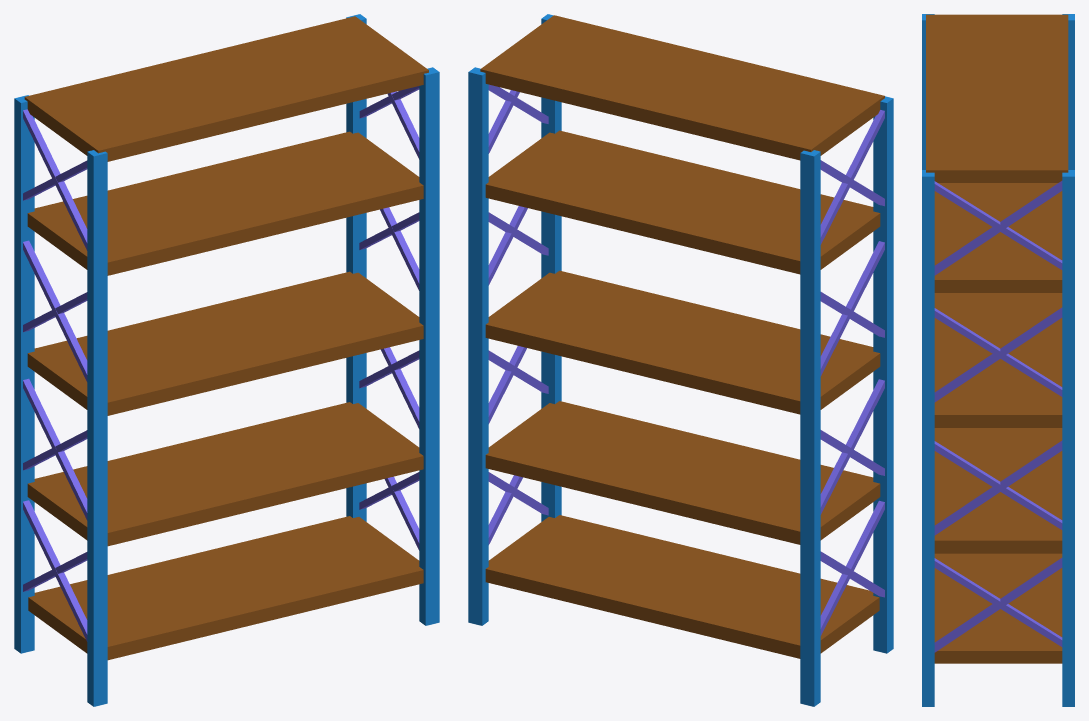
Rendered from shelf 2.glb.
The picture shows the model from 3 angles, left to right: view 1: azimuth 30°, elevation 25°; view 2: azimuth 150°, elevation 25°; view 3: azimuth 270°, elevation 25°; orthographic projection. The views are drawn at different scales.
Parts seen in each view (by area): view 1: Cube, Cube.005, Cube.003, Cube.002, Cube.004, Cube.001, Cube.010, Cube.008, Cube.012, Cube.006, Cube.017, Cube.018 (+2 smaller); view 2: Cube, Cube.005, Cube.003, Cube.002, Cube.004, Cube.001, Cube.010, Cube.012, Cube.006, Cube.008, Cube.017, Cube.018 (+2 smaller); view 3: Cube.005, Cube, Cube.003, Cube.002, Cube.001, Cube.004, Cube.020, Cube.018, Cube.014, Cube.017.
Boxes of the visible parts, box(x1,y1,x2,y2) form: Cube: box(14, 14, 439, 706); Cube.005: box(24, 16, 428, 161); Cube.003: box(27, 271, 423, 415); Cube.002: box(27, 402, 423, 546); Cube.004: box(27, 131, 423, 275); Cube.001: box(28, 516, 423, 660); Cube.010: box(23, 378, 87, 520); Cube.008: box(23, 240, 87, 381); Cube.012: box(23, 500, 87, 641); Cube.006: box(23, 109, 87, 250); Cube.017: box(359, 207, 419, 290); Cube.018: box(359, 347, 419, 428); Cube: box(468, 14, 893, 706); Cube.005: box(480, 15, 884, 160); Cube.003: box(485, 270, 880, 414); Cube.002: box(485, 401, 880, 544); Cube.004: box(485, 130, 880, 274); Cube.001: box(485, 515, 879, 658); Cube.010: box(820, 379, 884, 514); Cube.012: box(820, 500, 884, 635); Cube.006: box(820, 110, 884, 244); Cube.008: box(820, 241, 884, 376); Cube.017: box(488, 206, 548, 285); Cube.018: box(488, 346, 548, 423); Cube.005: box(926, 14, 1068, 182); Cube: box(922, 14, 1074, 706); Cube.003: box(934, 293, 1062, 427); Cube.002: box(934, 428, 1062, 553); Cube.001: box(934, 553, 1062, 663); Cube.004: box(934, 183, 1062, 292); Cube.020: box(934, 558, 1062, 652); Cube.018: box(934, 440, 1062, 535); Cube.014: box(934, 181, 1062, 275); Cube.017: box(934, 307, 1062, 402).
Bounding box in the file's own units: 1.29 × 1.97 × 0.5135.
